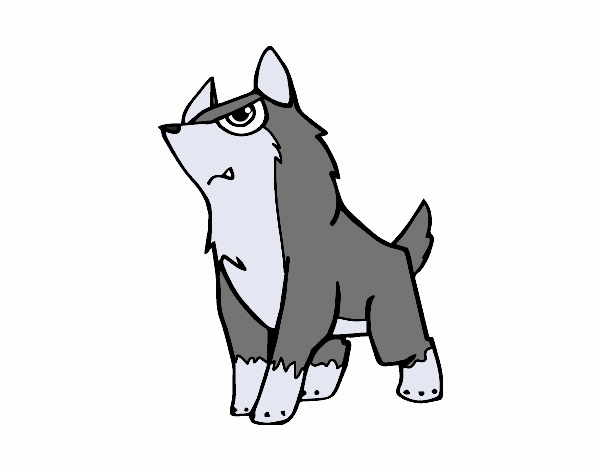Lobo: (100, 28, 481, 429)
